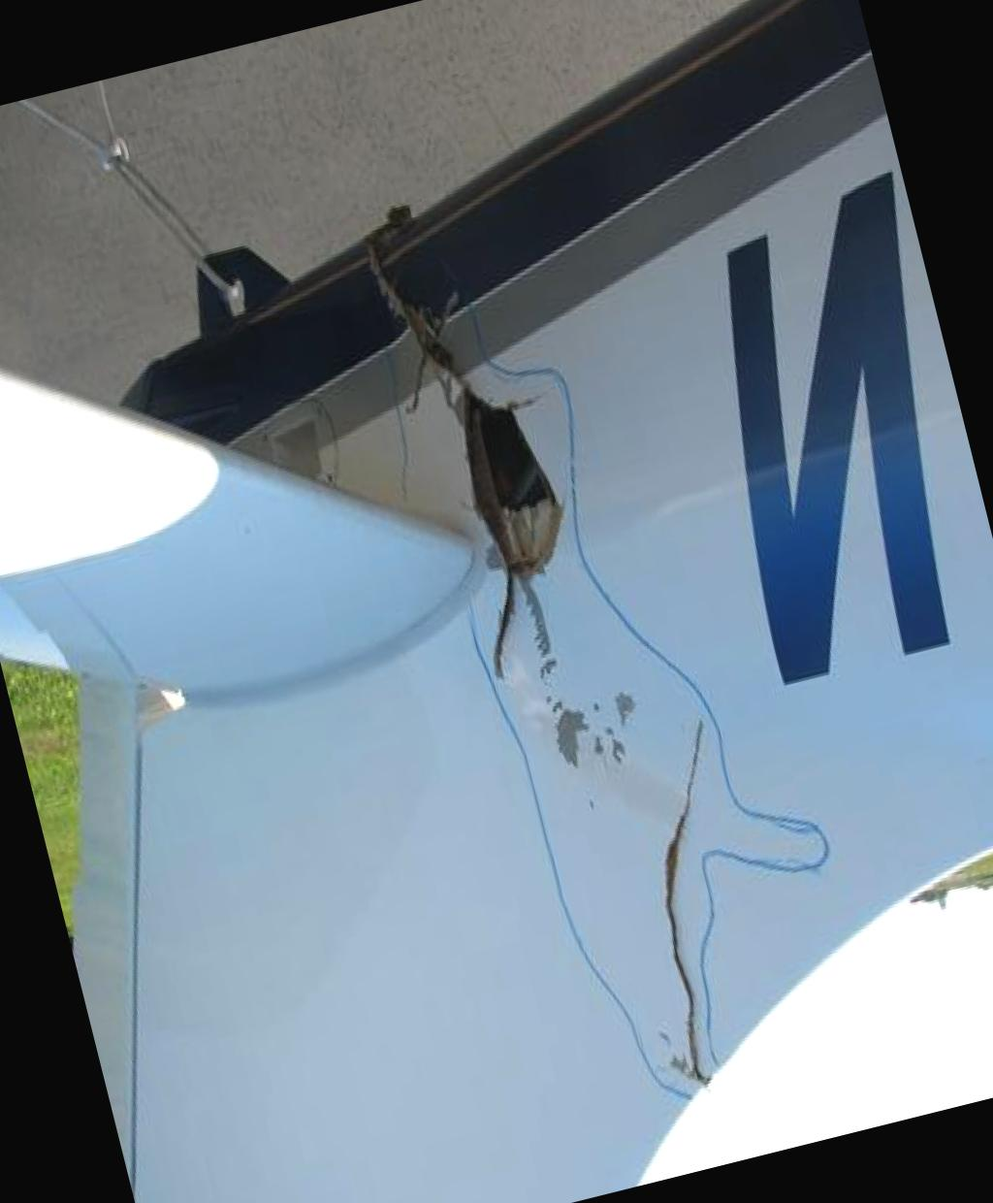crack: (362, 210, 600, 701), (607, 715, 790, 1088)
